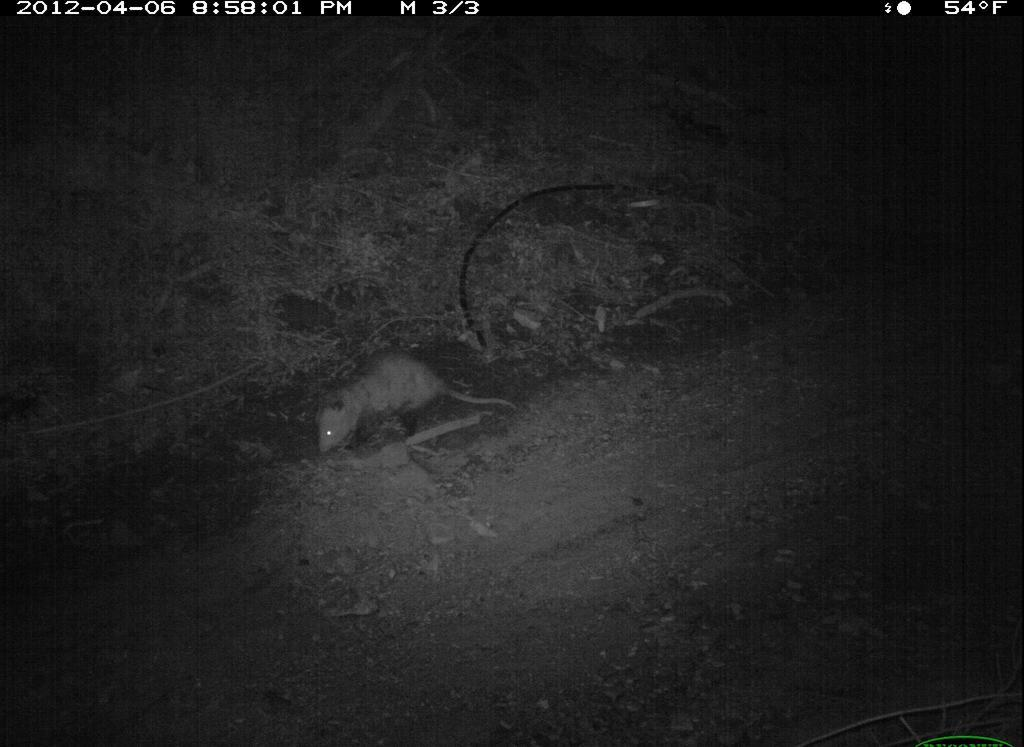opossum: (310, 340, 524, 466)
